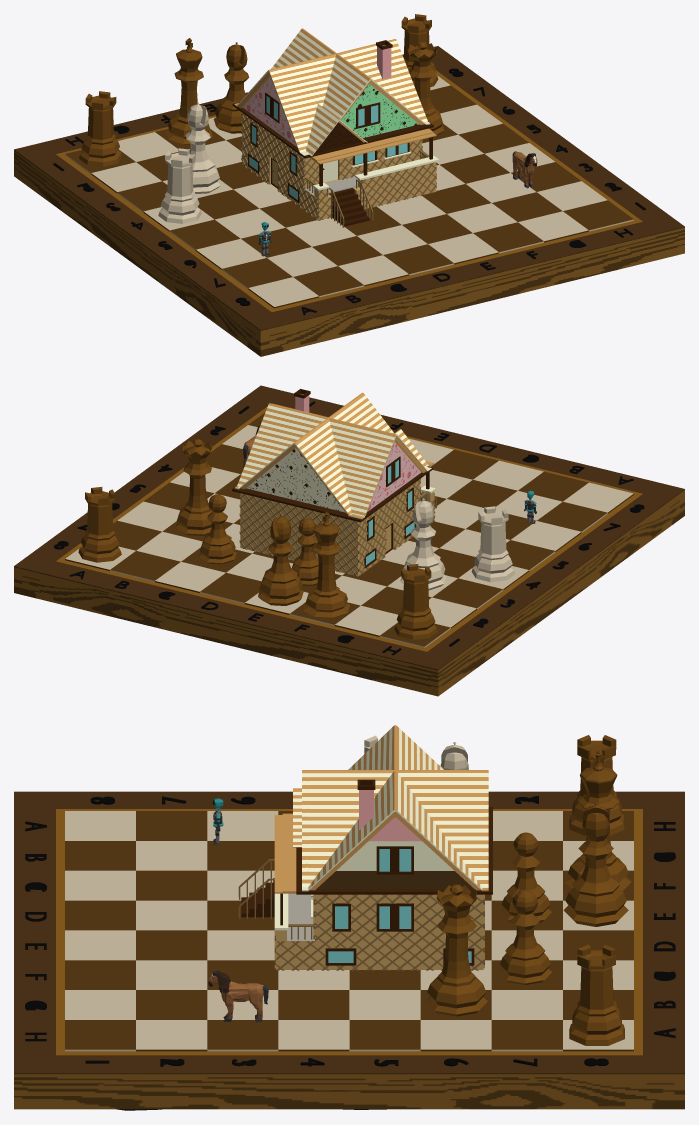
The picture shows the model from 3 angles, top to bottom: view 1: azimuth 30°, elevation 25°; view 2: azimuth 150°, elevation 25°; view 3: azimuth 270°, elevation 25°; orthographic projection. The views are drawn at different scales.
Parts seen in each view (by area): view 1: Cube.002, Cube.1102, ANIMAL_CABALLO; view 2: Cube.002, Cube.1102; view 3: Cube.002, Cube.1102, ANIMAL_CABALLO.
Boxes of the visible parts, x1=… form: Cube.002: x1=14, y1=14, x2=684, y2=356; Cube.1102: x1=232, y1=28, x2=439, y2=227; ANIMAL_CABALLO: x1=512, y1=151, x2=537, y2=188; Cube.002: x1=14, y1=385, x2=684, y2=696; Cube.1102: x1=232, y1=389, x2=436, y2=576; Cube.002: x1=14, y1=735, x2=684, y2=1109; Cube.1102: x1=238, y1=725, x2=492, y2=970; ANIMAL_CABALLO: x1=208, y1=969, x2=268, y2=1022.
Size of the model in its own units: 3981 by 1457 by 4012.
27 materials, 3 textured.
